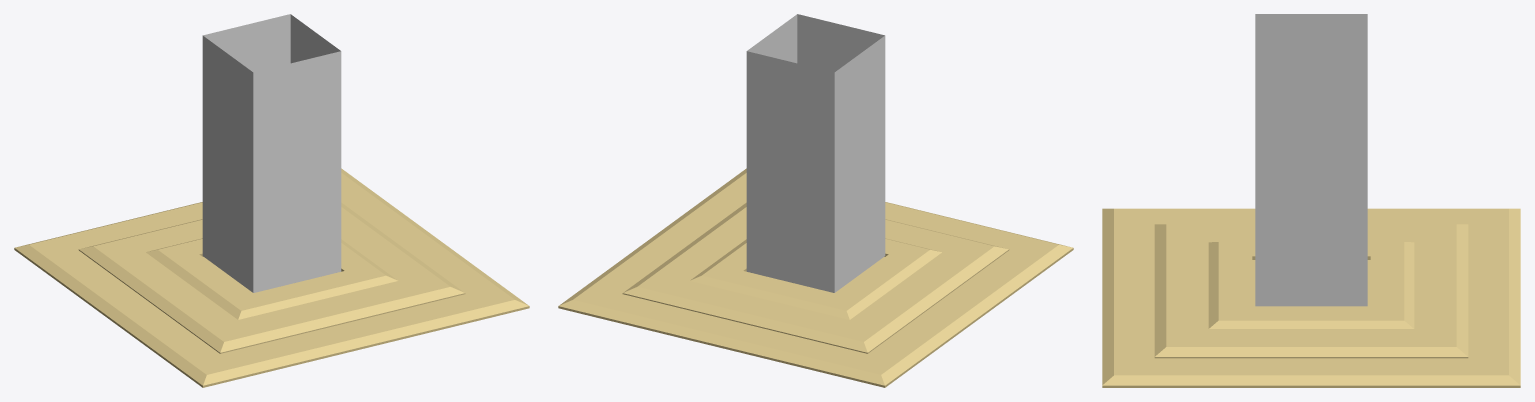
Rendered from Teleporter.fbx.
The picture shows the model from 3 angles, left to right: view 1: azimuth 30°, elevation 25°; view 2: azimuth 150°, elevation 25°; view 3: azimuth 270°, elevation 25°; orthographic projection. The views are drawn at different scales.
Visible parts, largest first — view 1: Teleport Platform, Teleport Field; view 2: Teleport Platform, Teleport Field; view 3: Teleport Platform, Teleport Field.
Boxes of the visible parts, x1,y1,x2,y2 form: Teleport Platform: [14, 168, 529, 387]; Teleport Field: [202, 14, 341, 292]; Teleport Platform: [558, 168, 1073, 387]; Teleport Field: [746, 14, 885, 292]; Teleport Platform: [1102, 208, 1520, 387]; Teleport Field: [1255, 14, 1367, 306].
Size of the model in its own units: 1200 by 828 by 1200.
